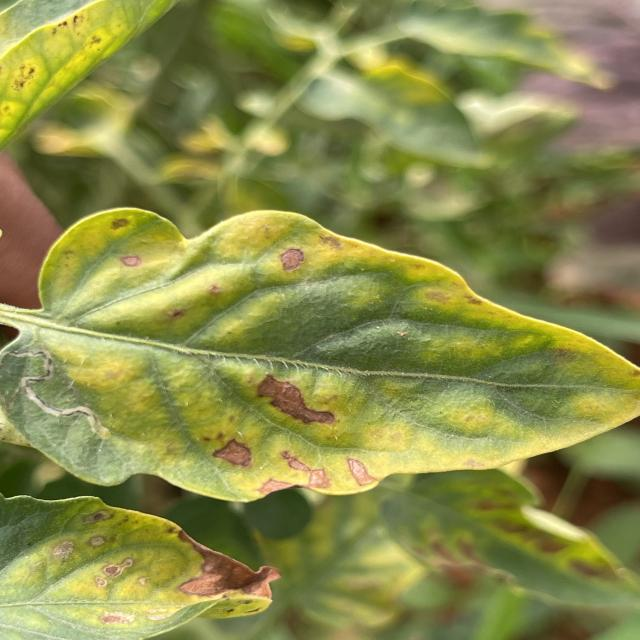tomato_early blight: (0, 205, 640, 503), (1, 492, 282, 640), (377, 466, 640, 606), (0, 0, 177, 151)
